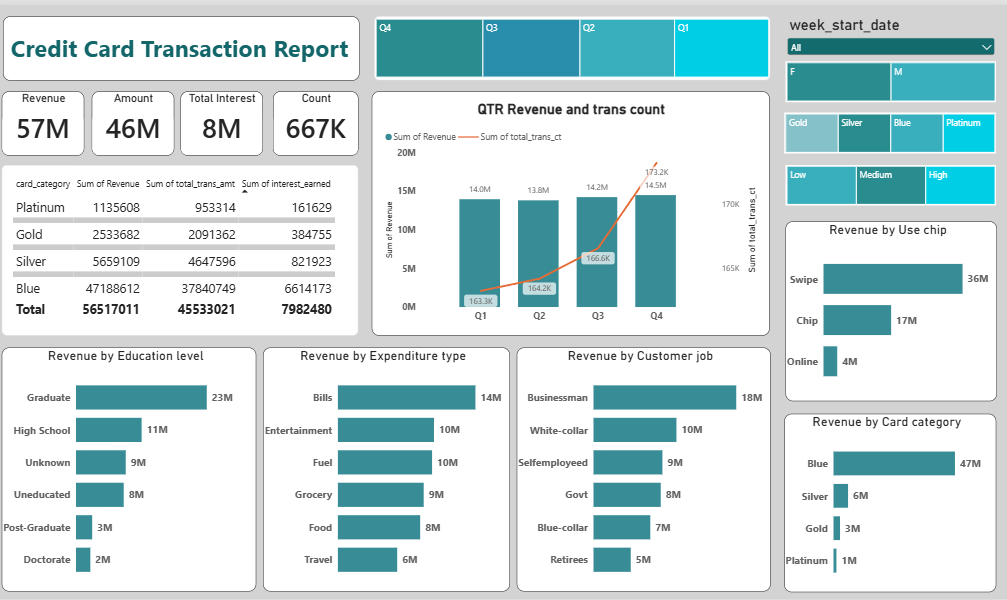

What the dashboard file says about the page in this screenshot:
{"tool":"powerbi","page":{"name":"Credit Card Report","canvas":[1625,950],"ordinal":0},"visuals":[{"type":"textbox","box":[15,18.3,570,103.3],"z":0},{"type":"lineStackedColumnComboChart","title":"QTR Revenue and trans count","fields":{"Category":["public cc_detail.qtr"],"Y":["Sum(public cc_detail.Revenue)"],"Y2":["Sum(public cc_detail.total_trans_ct)"]},"box":[605.7,137.1,637.1,391.4],"z":1000},{"type":"barChart","title":"Revenue by Expenditure type","fields":{"Category":["public cc_detail.exp_type"],"Y":["Sum(public cc_detail.Revenue)"]},"box":[431.2,548.8,395,390],"z":2000},{"type":"barChart","title":"Revenue by Customer job","fields":{"Category":["public cust_detail.customer_job"],"Y":["Sum(public cc_detail.Revenue)"]},"box":[837.5,548.8,406.2,390],"z":3000},{"type":"barChart","title":"Revenue by Education level","fields":{"Category":["public cust_detail.education_level"],"Y":["Sum(public cc_detail.Revenue)"]},"box":[13.8,548.8,407.5,390],"z":4000},{"type":"barChart","title":"Revenue by Card category","fields":{"Category":["public cc_detail.card_category"],"Y":["Sum(public cc_detail.Revenue)"]},"box":[1266.4,653.6,339.1,285.5],"z":5000},{"type":"barChart","title":"Revenue by Use chip","fields":{"Category":["public cc_detail.use_chip"],"Y":["Sum(public cc_detail.Revenue)"]},"box":[1268.3,346.7,338.3,288.3],"z":6000},{"type":"tableEx","fields":{"Values":["public cc_detail.card_category","Sum(public cc_detail.Revenue)","Sum(public cc_detail.total_trans_amt)","Sum(public cc_detail.interest_earned)"]},"box":[13.8,256.2,570,272.5],"z":7000},{"type":"cardVisual","title":"Revenue","fields":{"Data":["Sum(public cc_detail.Revenue)"]},"box":[14.3,137.1,132.3,103.1],"z":8000},{"type":"cardVisual","title":"Amount","fields":{"Data":["Sum(public cc_detail.total_trans_amt)"]},"box":[157.7,137.7,132,103],"z":9000},{"type":"cardVisual","title":"Total Interest","fields":{"Data":["Sum(public cc_detail.interest_earned)"]},"box":[300,137.1,132,103],"z":10000},{"type":"cardVisual","title":"Count","fields":{"Data":["Sum(public cc_detail.total_trans_ct)"]},"box":[447.1,137.1,137.1,102.9],"z":11000},{"type":"slicer","fields":{"Values":["public cc_detail.week_start_date"]},"box":[1266.7,18.3,341.7,103.3],"z":12000},{"type":"treemap","fields":{"Group":["public cc_detail.qtr"],"Values":["Avg(public cust_detail.client_num)"]},"box":[610,18.8,633.8,102.5],"z":13000},{"type":"treemap","fields":{"Group":["public cust_detail.gender"],"Values":["Avg(public cust_detail.client_num)"]},"box":[1268.5,90,336.9,65.4],"z":14000},{"type":"treemap","fields":{"Group":["public cc_detail.card_category"],"Values":["Avg(public cust_detail.client_num)"]},"box":[1266.9,171.5,338.5,65.4],"z":15000},{"type":"treemap","fields":{"Group":["public cust_detail.IncomeGroup"],"Values":["Avg(public cust_detail.client_num)"]},"box":[1268.5,256.9,336.9,64.6],"z":16000}]}

Visuals, with their boxes in screenshot pixels (x1, y1, x2, y2), scaled from the page's 1625x950 canvas onto the 1007x600 screenshot:
textbox: [9, 12, 363, 77]
"QTR Revenue and trans count" lineStackedColumnComboChart: [375, 87, 770, 334]
"Revenue by Expenditure type" barChart: [267, 347, 512, 593]
"Revenue by Customer job" barChart: [519, 347, 771, 593]
"Revenue by Education level" barChart: [9, 347, 261, 593]
"Revenue by Card category" barChart: [785, 413, 995, 593]
"Revenue by Use chip" barChart: [786, 219, 996, 401]
tableEx - public cc_detail.card_category x Sum(public cc_detail.Revenue): [9, 162, 362, 334]
"Revenue" cardVisual: [9, 87, 91, 152]
"Amount" cardVisual: [98, 87, 180, 152]
"Total Interest" cardVisual: [186, 87, 268, 152]
"Count" cardVisual: [277, 87, 362, 152]
slicer - public cc_detail.week_start_date: [785, 12, 997, 77]
treemap - public cc_detail.qtr x Avg(public cust_detail.client_num): [378, 12, 771, 77]
treemap - public cust_detail.gender x Avg(public cust_detail.client_num): [786, 57, 995, 98]
treemap - public cc_detail.card_category x Avg(public cust_detail.client_num): [785, 108, 995, 150]
treemap - public cust_detail.IncomeGroup x Avg(public cust_detail.client_num): [786, 162, 995, 203]
